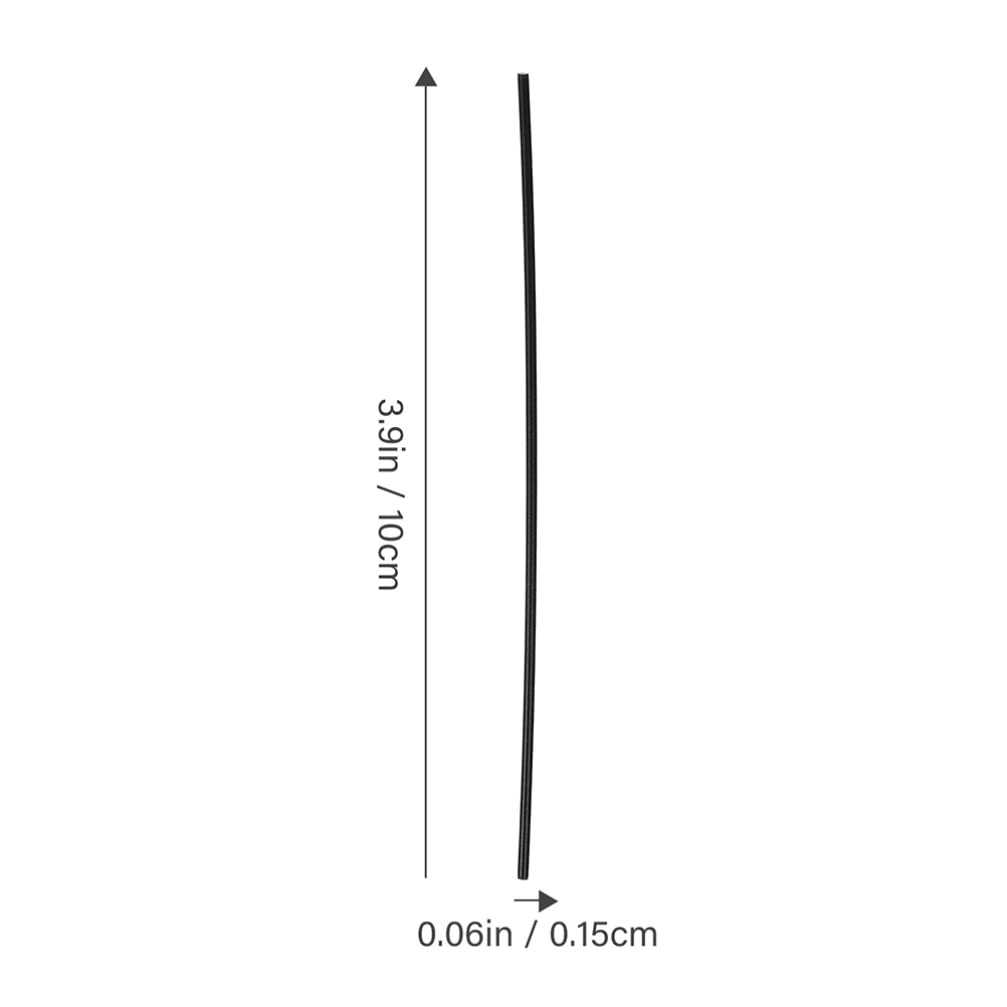/: (377, 485, 405, 498), (525, 920, 537, 948)
0.06in: (418, 919, 511, 946)
0.15cm: (551, 922, 656, 946)
WOOL: (378, 511, 403, 590)
